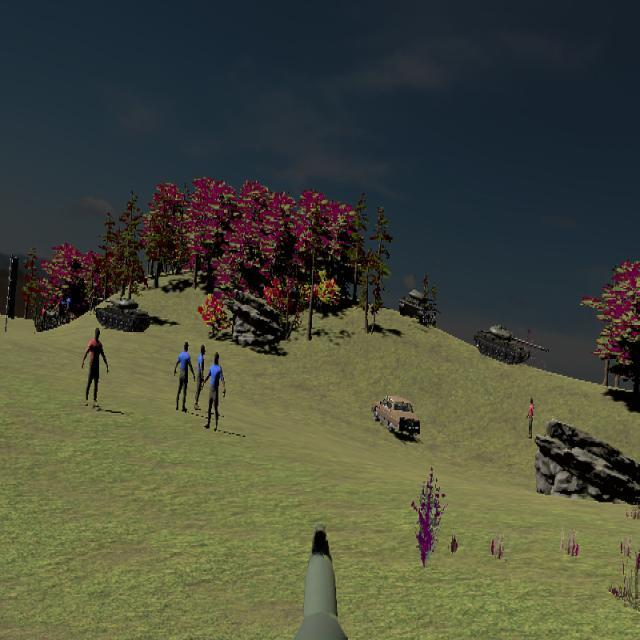Human: (82, 327, 108, 406), (201, 354, 226, 431), (174, 341, 195, 413), (195, 344, 206, 409)
Tank: (473, 323, 550, 365), (94, 297, 150, 333), (399, 288, 440, 325), (399, 289, 439, 325)
car: (372, 395, 421, 439)
